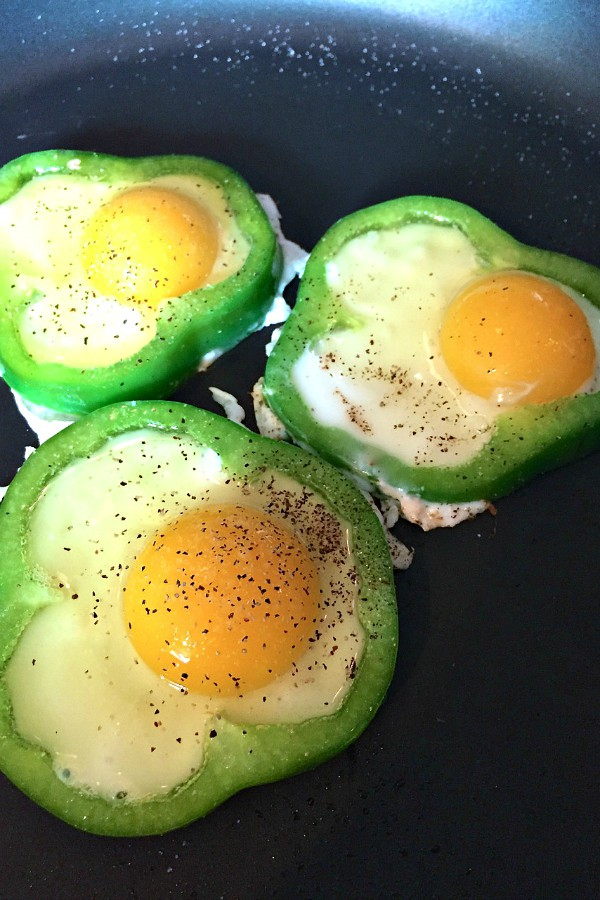fried egg: (60, 480, 337, 693), (354, 260, 575, 399), (34, 192, 219, 305)
